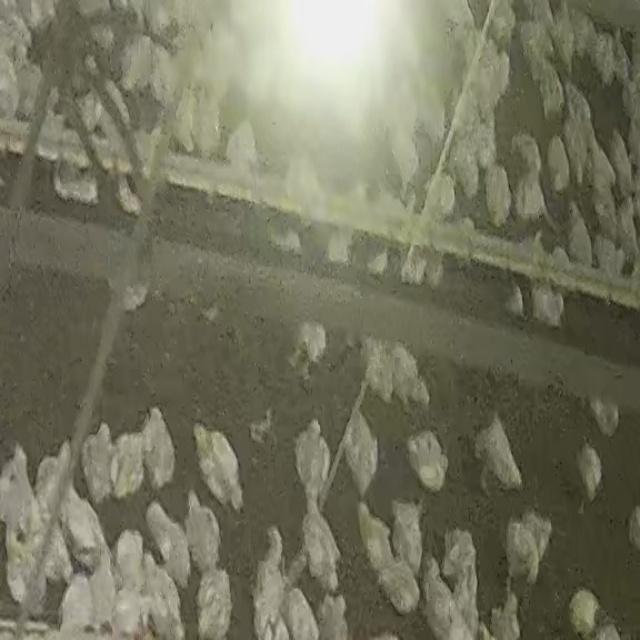chicken: (362, 336, 432, 413), (517, 8, 565, 117), (190, 423, 244, 514), (1, 526, 50, 619), (252, 527, 290, 638), (0, 443, 38, 548), (34, 106, 96, 170), (144, 498, 190, 582), (60, 484, 106, 568), (474, 418, 524, 494), (509, 133, 550, 225), (298, 501, 341, 587), (465, 38, 509, 122), (420, 555, 465, 637), (558, 86, 595, 184), (582, 125, 623, 213), (28, 510, 74, 585), (144, 552, 184, 637), (341, 412, 380, 498), (183, 493, 221, 579), (109, 427, 150, 502), (80, 422, 116, 507), (33, 442, 69, 526), (292, 420, 332, 495), (404, 430, 450, 495), (191, 82, 228, 158), (144, 403, 175, 492), (443, 524, 480, 598), (59, 568, 99, 634), (121, 35, 165, 95), (196, 570, 232, 638), (224, 120, 262, 184), (51, 156, 99, 206), (289, 319, 330, 377), (356, 501, 392, 567), (388, 120, 421, 190), (379, 556, 420, 612), (606, 129, 637, 203), (504, 520, 538, 587), (548, 1, 578, 74), (146, 44, 180, 107), (483, 159, 515, 224), (447, 135, 480, 198), (394, 497, 424, 565), (545, 130, 574, 198), (564, 203, 594, 266), (284, 591, 322, 638), (591, 228, 624, 282), (423, 171, 457, 222), (576, 443, 604, 503), (488, 590, 521, 640), (567, 587, 601, 635), (317, 591, 350, 640), (588, 395, 620, 441)
